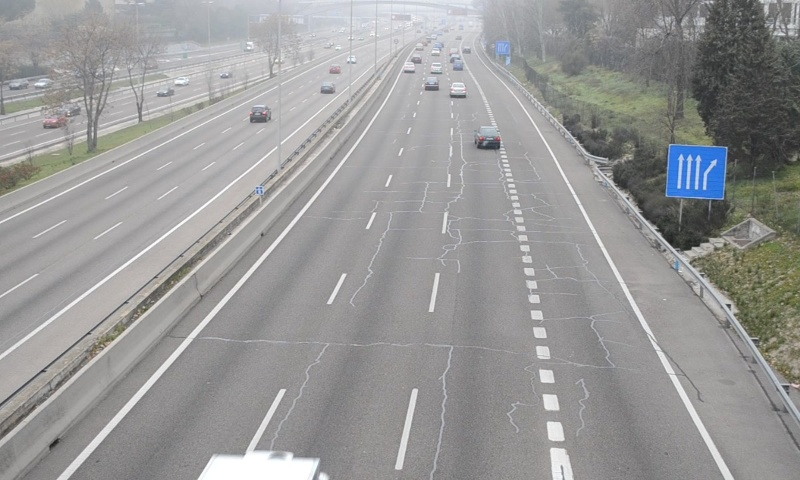car: (475, 125, 502, 150), (448, 80, 468, 98)
